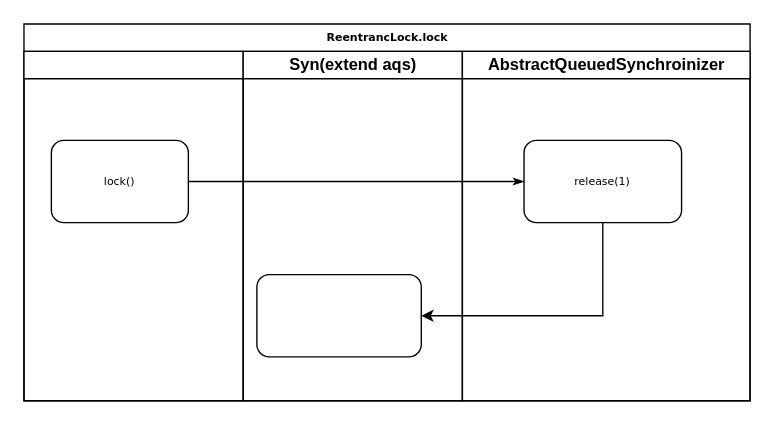
The diagram is 774 pixels wide and 425 high, and some of its shapes have lost their labels. The box of each missing label's shape, as (x1, y1, x2, y2) in pixels:
ReentrantLock: (23, 50, 243, 401)
tryRelease(1) 1. setState 2.setExclusiveOwnerThread: (256, 273, 421, 357)
